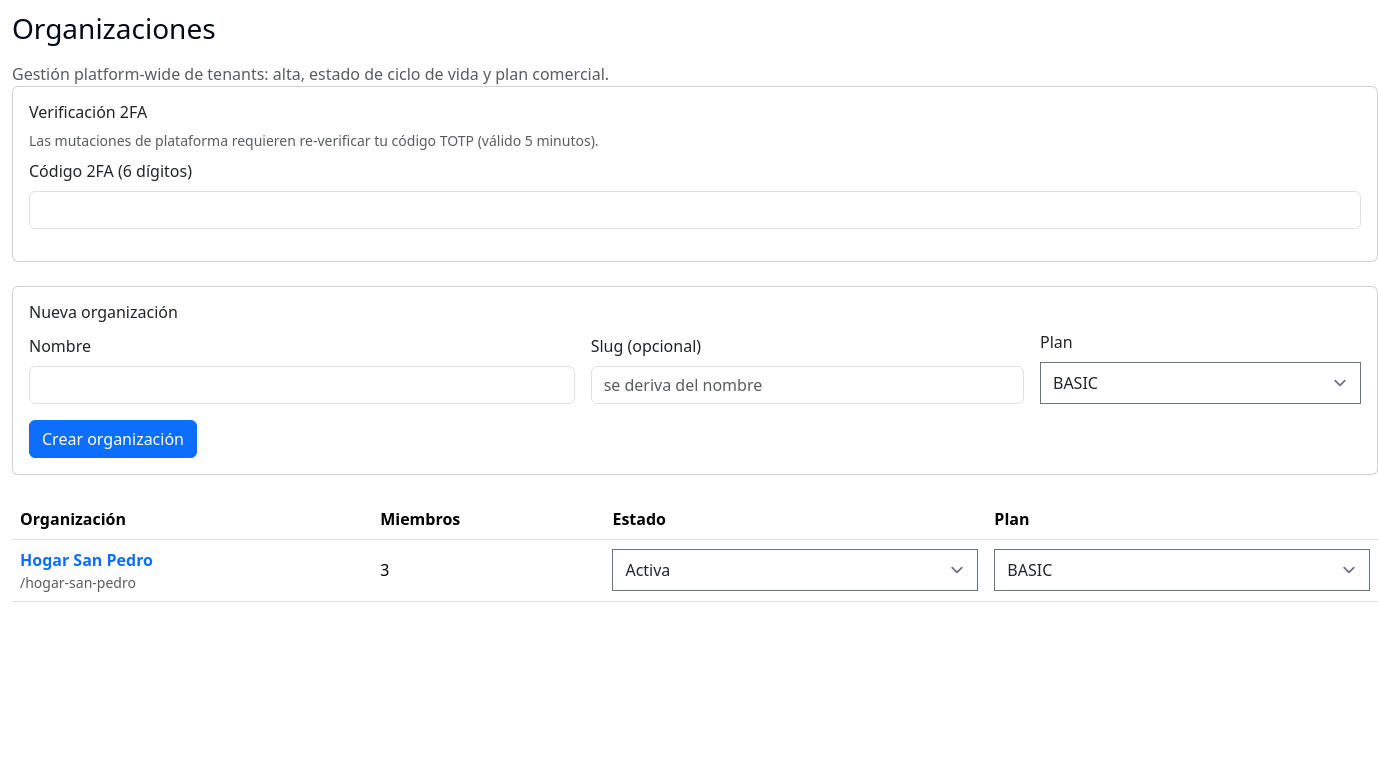
Test: PlatformOrganizationsPage › no muta si falta el código 2FA y no hay step-up
expect the link "Hogar San Pedro" is shown: met, box [20,549,153,571]
In the field labelled "Nombre": (302, 385) [29,366,575,404], type "Nueva Org"
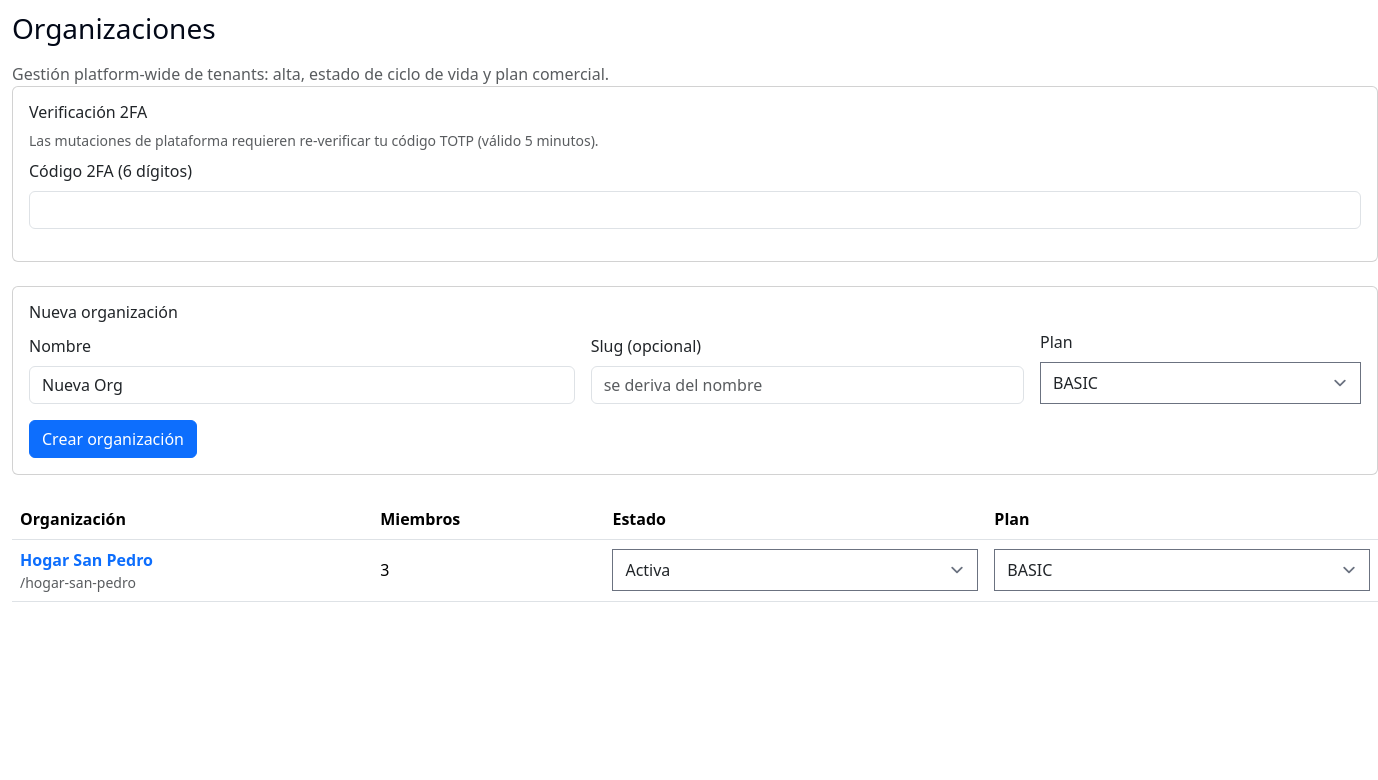
Submit the form "Crear organización", box [13,287,1377,474]
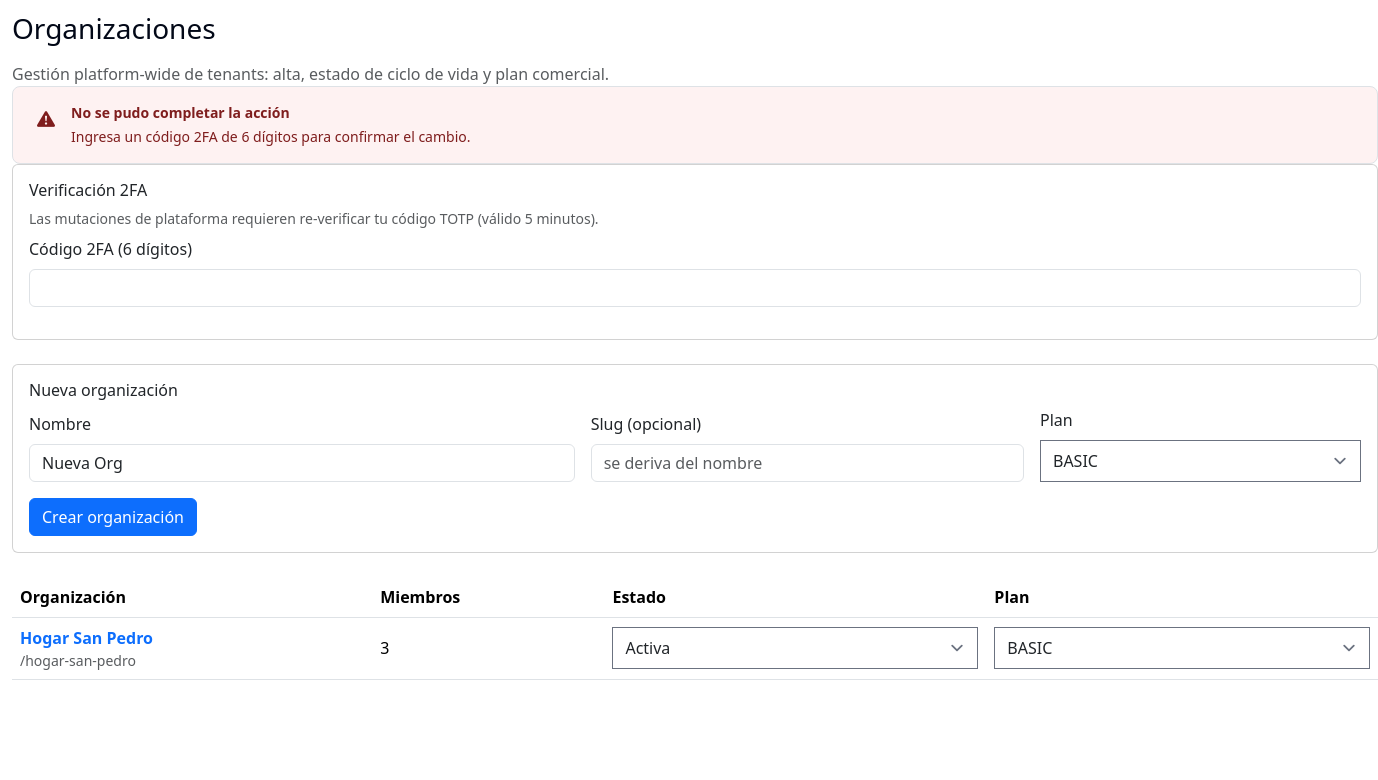
expect the text "Ingresa un código 2FA de 6 dígitos para confirmar el cambio." is shown: met, box [71,127,470,146]
